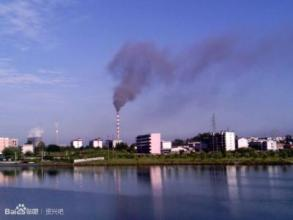smoke: (103, 39, 164, 113)
